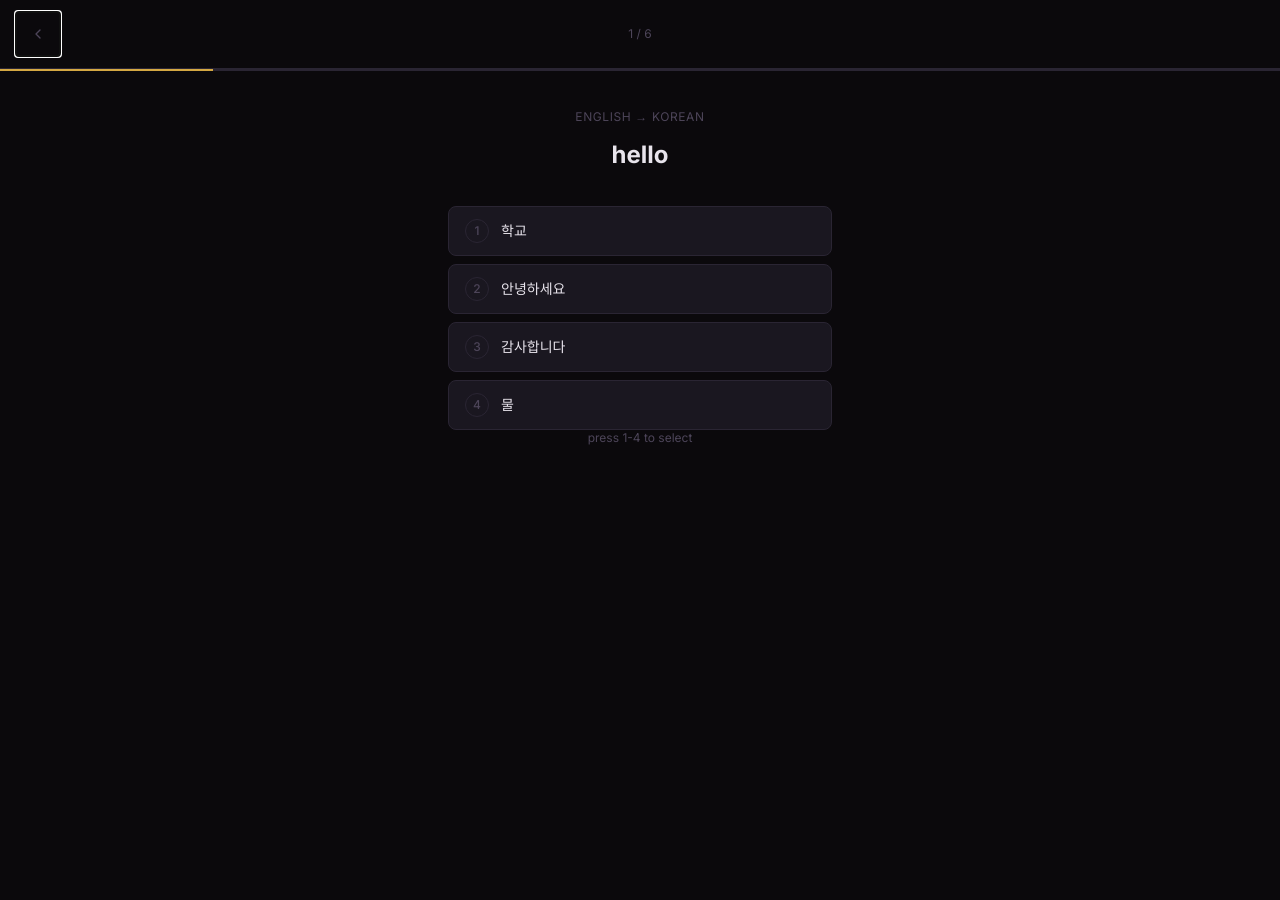
Test: QuizMode — answering › selecting an option disables further selection
The width and height of the screenshot is (1280, 900).
What coordinates should you click on to do the following:
click the button "1 학교"
I would click on:
 (477, 231)
Its box is [448,206,832,256].
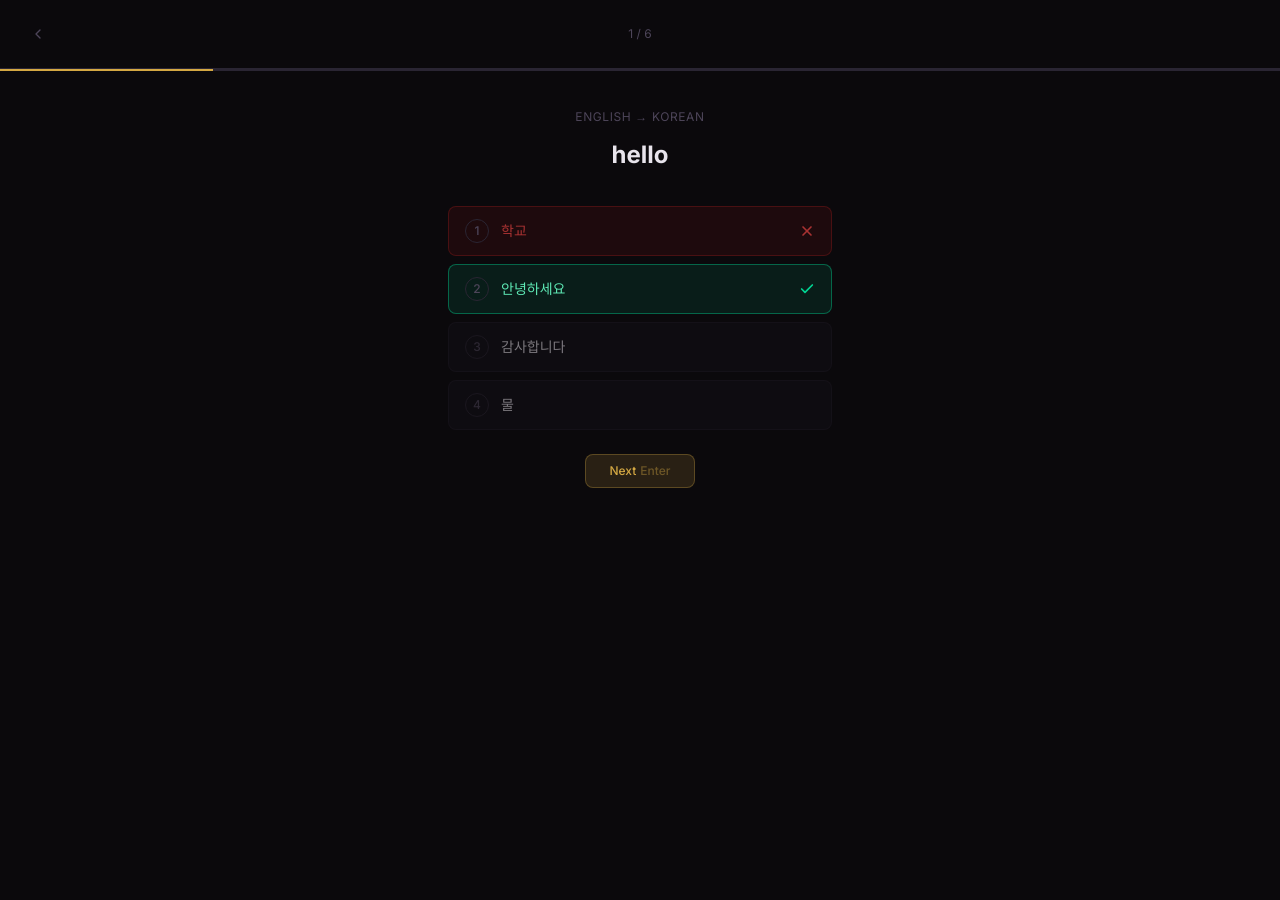
Result: the button "1 학교" is disabled at [448,206,832,256]
Result: the button "2 안녕하세요" is disabled at [448,264,832,314]
Result: the button "3 감사합니다" is disabled at [448,322,832,372]
